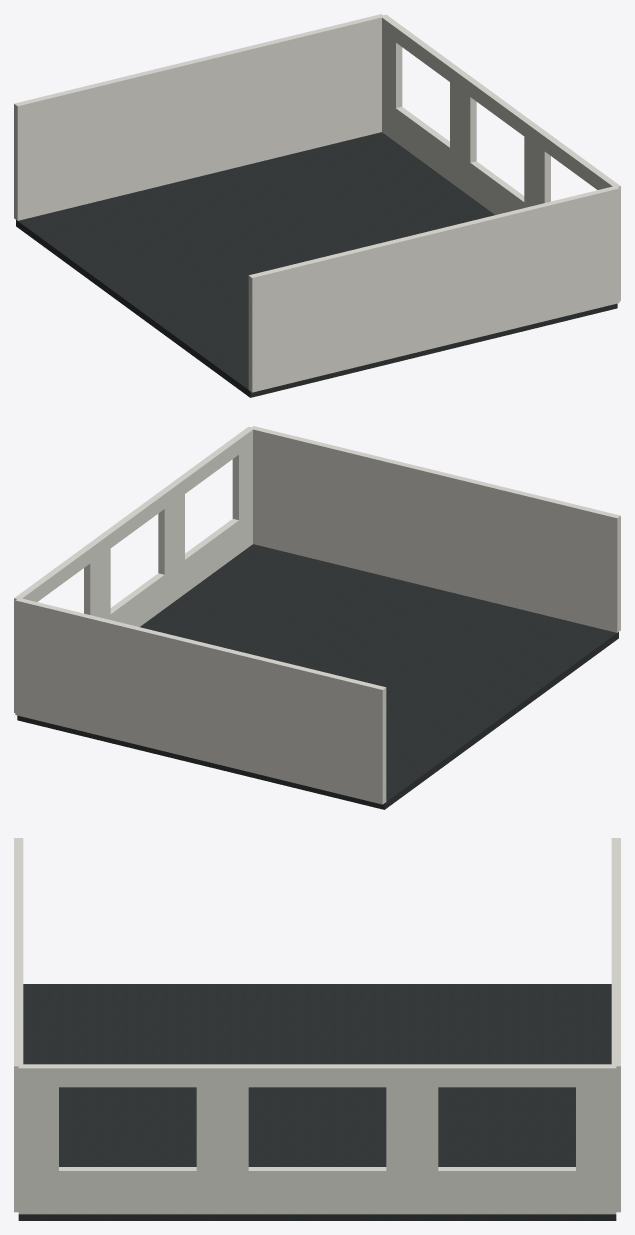
Rendered from SM_F03_Structure.fbx.
3 renders of one model, top to bottom at view 1: azimuth 30°, elevation 25°; view 2: azimuth 150°, elevation 25°; view 3: azimuth 270°, elevation 25°, orthographic. The views are drawn at different scales.
Parts seen in each view (by area): view 1: SM_F03_Structure; view 2: SM_F03_Structure; view 3: SM_F03_Structure.
Boxes of the visible parts, x1,y1,x2,y2 form: SM_F03_Structure: (14, 14, 620, 397); SM_F03_Structure: (14, 426, 620, 809); SM_F03_Structure: (14, 838, 620, 1220).
Bounding box in the file's own units: 1049 × 1168 × 328.
Materials: 2 (1 with a texture image).
